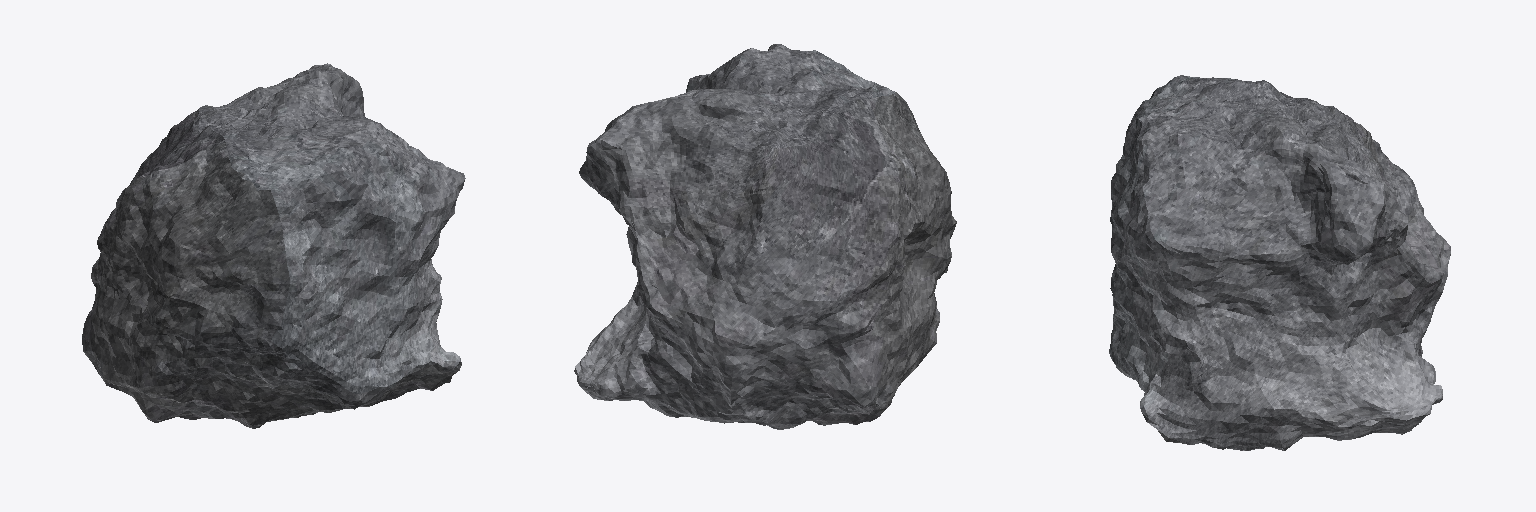
The picture shows the model from 3 angles: view 1: azimuth 30°, elevation 25°; view 2: azimuth 150°, elevation 25°; view 3: azimuth 270°, elevation 25°; orthographic projection.
Visible parts, largest first — view 1: ston_LP1_1_SeamsColor; view 2: ston_LP1_1_SeamsColor; view 3: ston_LP1_1_SeamsColor.
Boxes of the visible parts, x1=… form: ston_LP1_1_SeamsColor: x1=82, y1=63, x2=465, y2=428; ston_LP1_1_SeamsColor: x1=574, y1=44, x2=956, y2=429; ston_LP1_1_SeamsColor: x1=1109, y1=75, x2=1450, y2=450.
Bounding box in the file's own units: 39.68 × 40.85 × 40.81.
1 materials, 1 textured.